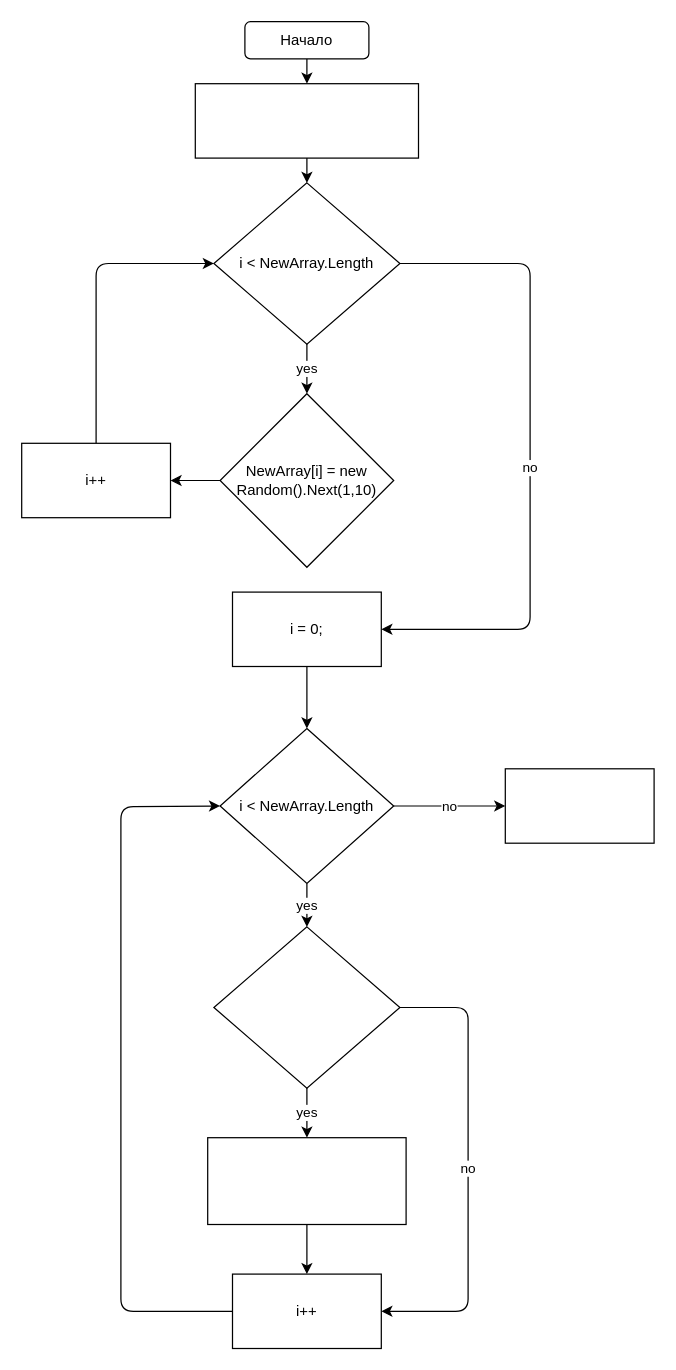
The diagram is 676 pixels wide and 1370 high, and some of its shapes have lost their labels. Here are the shapes that lost their labels. From the top down, the centre of each, then its label:
(306,120): int [] NewArray = new int[8]; i = 0; Console.WriteLine("Массив:")
(579,805): Конец
(306,1007): NewArray[i] % 2 == 0
(306,1180): Console.Write($"{NewArray[i]}")
